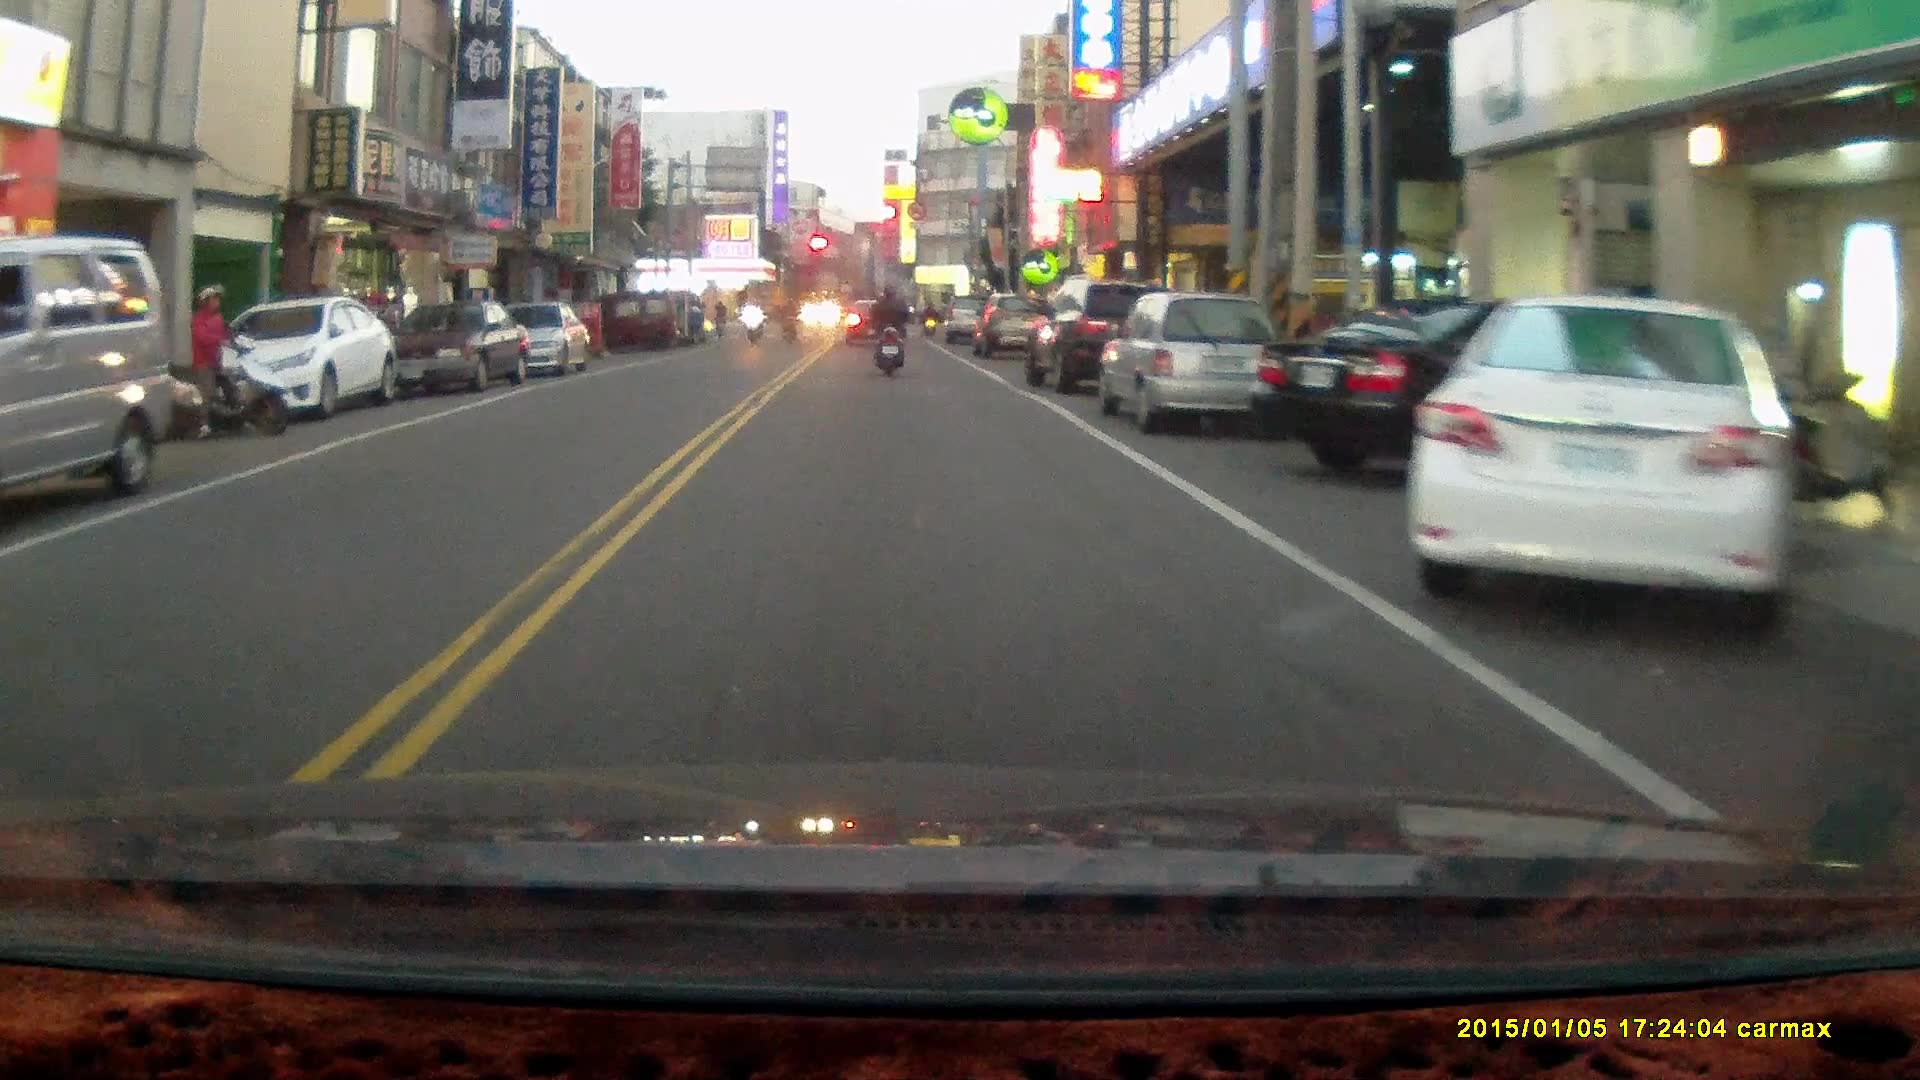rider: (159, 280, 286, 440), (865, 279, 908, 379), (739, 294, 765, 344)
vehicle: (1403, 292, 1812, 628), (1257, 297, 1730, 492), (1, 236, 170, 508), (1100, 291, 1293, 430), (197, 292, 393, 420), (1021, 279, 1177, 396), (373, 299, 534, 395), (470, 298, 587, 378)
